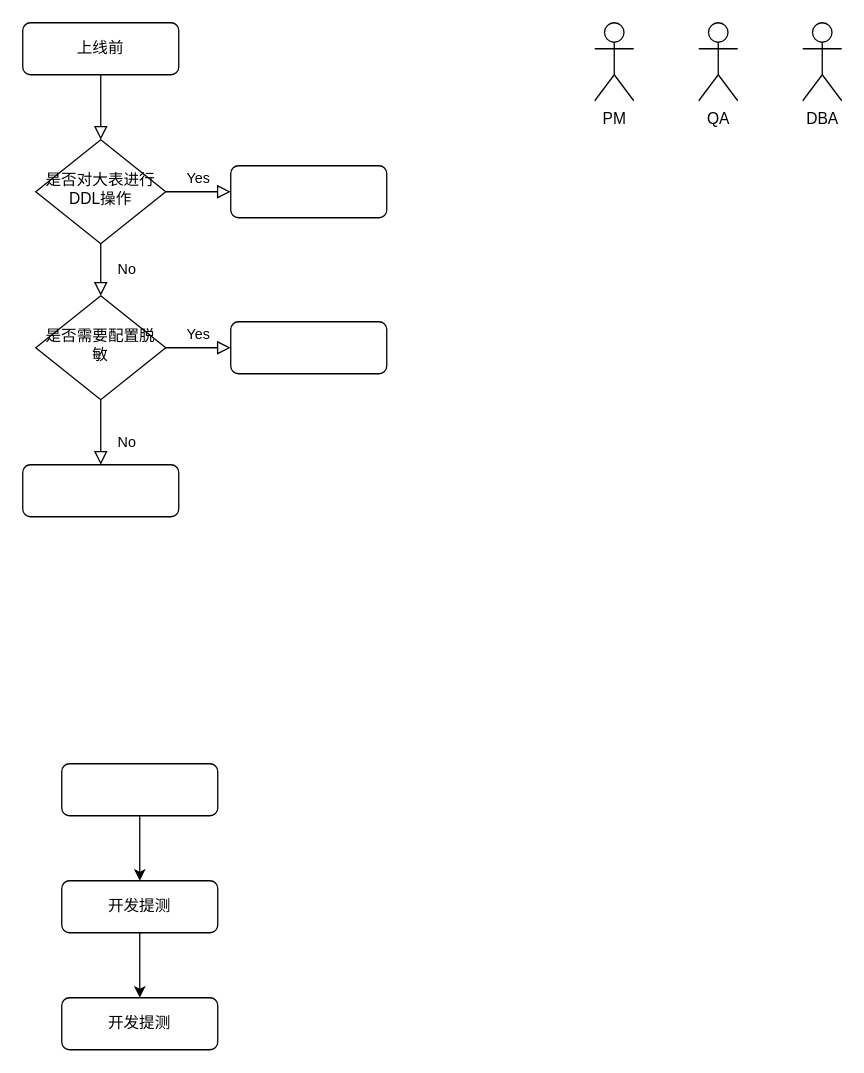
Some shapes in this 864 by 1073 pixel diagram are drawn without their labels. The centre of each missing label's shape, as x and y in pixels:
"Repair Lamp" goes at point 100,490.
"提前申请，且业务低峰执行" goes at point 308,191.
"数据库详细设计" goes at point 139,789.
"邮件告知DBA进行字段配置" goes at point 308,347.
